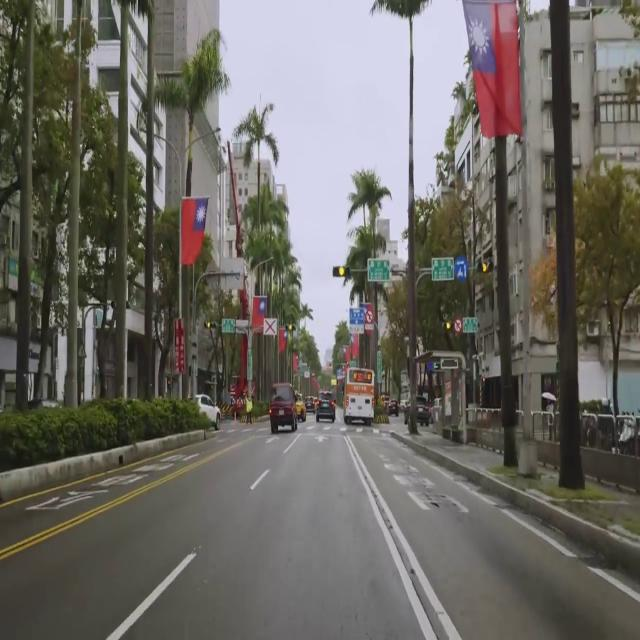yellow light: (477, 262, 496, 274), (333, 265, 350, 278), (286, 322, 296, 332), (442, 322, 454, 329)
